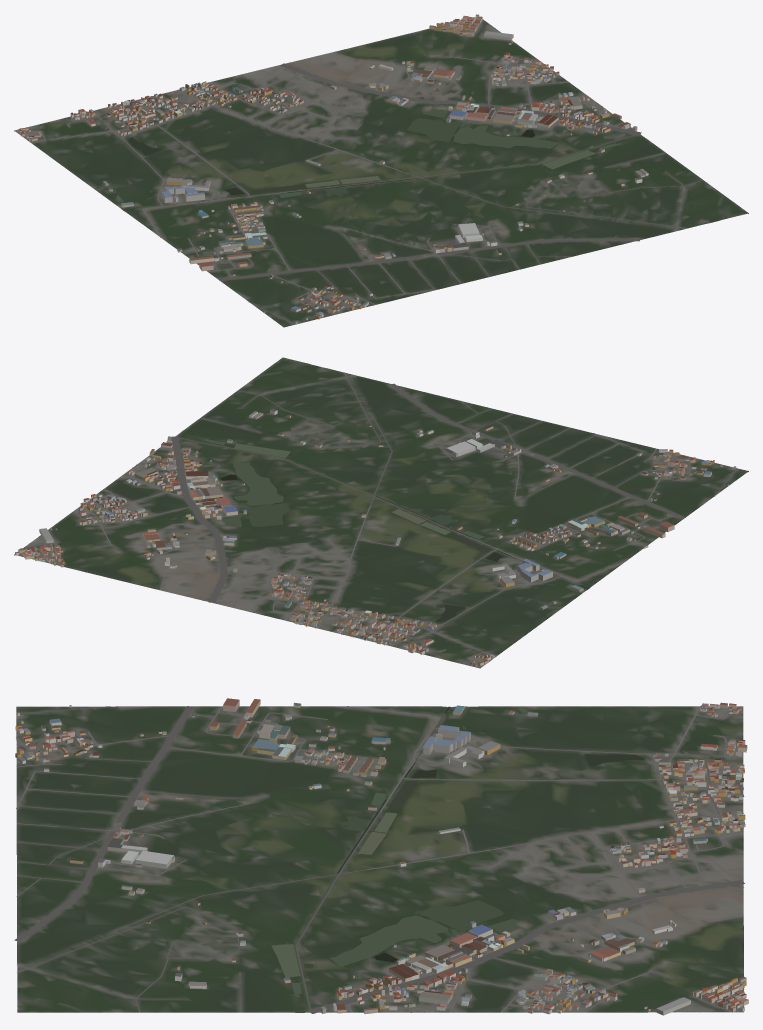
3 renders of one model, top to bottom at view 1: azimuth 30°, elevation 25°; view 2: azimuth 150°, elevation 25°; view 3: azimuth 270°, elevation 25°, orthographic. The views are drawn at different scales.
Parts seen in each view (by area): view 1: ground, buildings, roads, water; view 2: ground, buildings, roads, water; view 3: ground, buildings, roads, water.
Part boxes in pixels (x1,y1,x2,y2): ground: (14, 17, 748, 327); buildings: (18, 14, 648, 323); roads: (15, 18, 703, 324); water: (123, 109, 718, 222); ground: (14, 357, 748, 668); buildings: (15, 408, 736, 666); roads: (19, 372, 736, 667); water: (179, 365, 588, 622); ground: (16, 706, 743, 1012); buildings: (15, 698, 748, 1015); roads: (14, 706, 744, 1013); water: (17, 706, 644, 1012).
Size of the model in its own units: 1426 by 19.76 by 1418.
